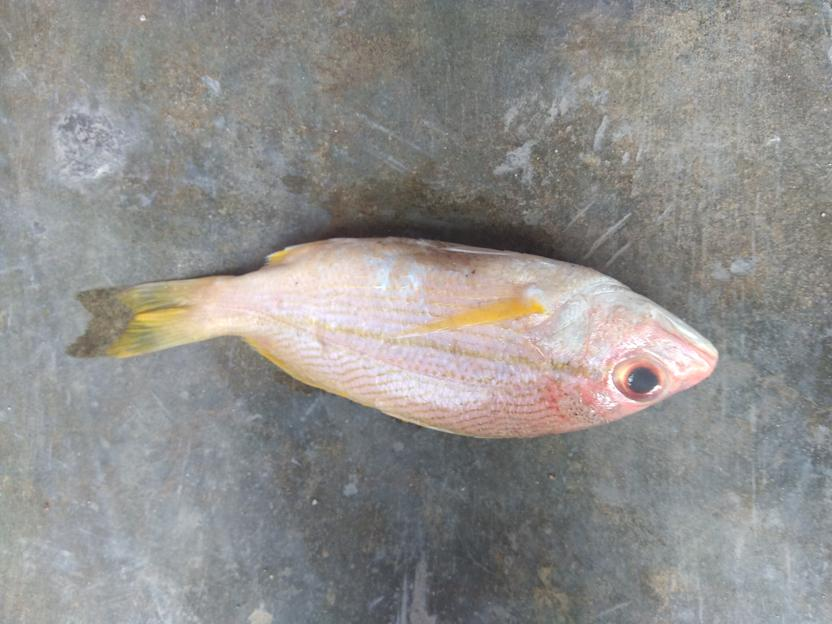Fish head: (544, 254, 725, 437)
Fish tail: (106, 271, 221, 361)
